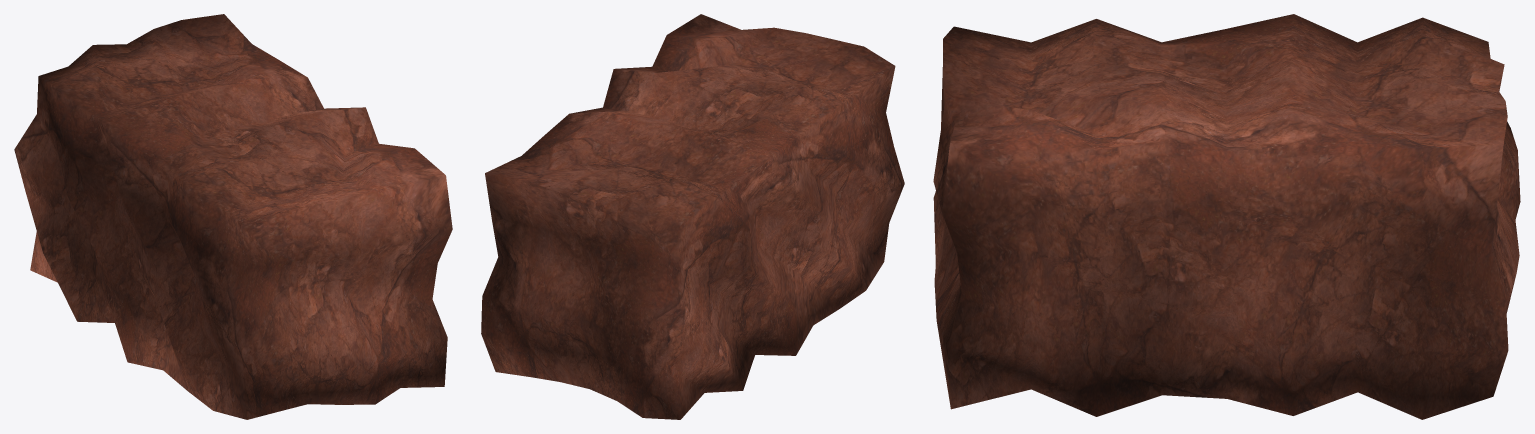
File: bluff-wall.glb
The picture shows the model from 3 angles, left to right: view 1: azimuth 30°, elevation 25°; view 2: azimuth 150°, elevation 25°; view 3: azimuth 270°, elevation 25°; orthographic projection. The views are drawn at different scales.
Visible parts, largest first — view 1: bluffwall-col; view 2: bluffwall-col; view 3: bluffwall-col.
Boxes of the visible parts, <box> form: bluffwall-col: <box>14,14,452,419</box>; bluffwall-col: <box>481,14,904,419</box>; bluffwall-col: <box>933,14,1520,419</box>.
Bounding box in the file's own units: 5.33 × 5.33 × 9.61.
Materials: 1 (1 with a texture image).
